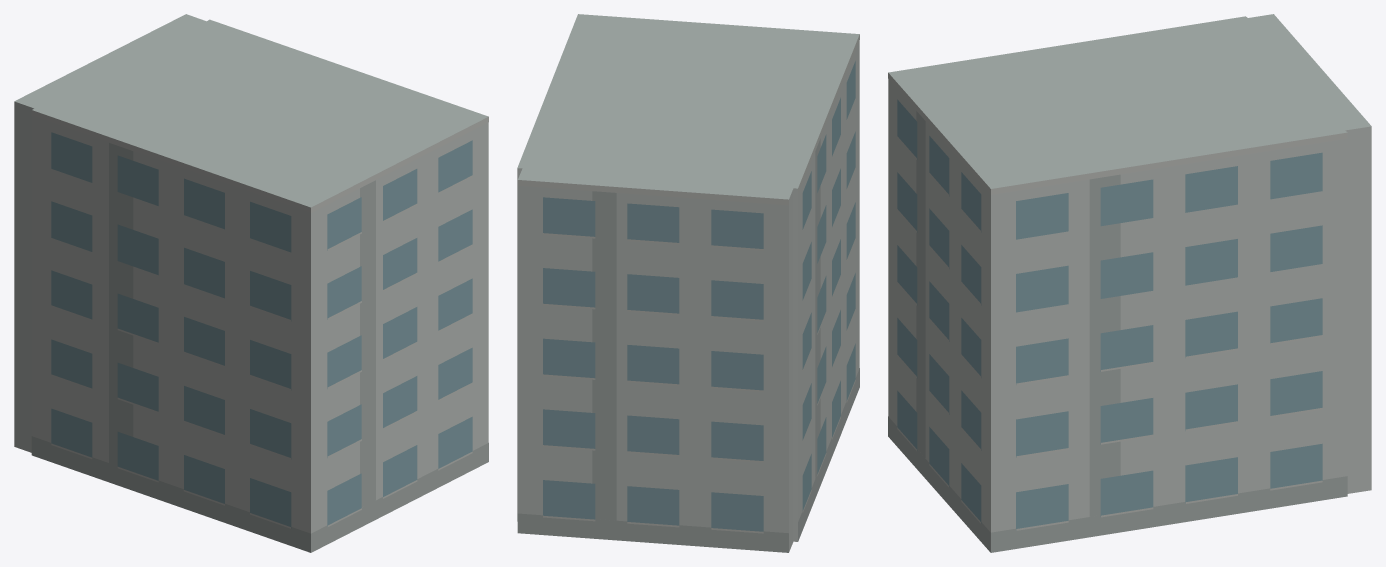
Rendered from survey-upis-32850420.glb.
The picture shows the model from 3 angles, left to right: view 1: azimuth 30°, elevation 25°; view 2: azimuth 150°, elevation 25°; view 3: azimuth 270°, elevation 25°; orthographic projection. The views are drawn at different scales.
Parts seen in each view (by area): view 1: survey-upis-32850420.tmp; view 2: survey-upis-32850420.tmp; view 3: survey-upis-32850420.tmp.
Part boxes in pixels (bbox=[...]): survey-upis-32850420.tmp: bbox=[14, 14, 488, 552]; survey-upis-32850420.tmp: bbox=[517, 14, 859, 552]; survey-upis-32850420.tmp: bbox=[888, 14, 1371, 552].
Size of the model in its own units: 15.07 by 14.6 by 17.6.
